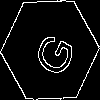G: (25, 25, 77, 81)
